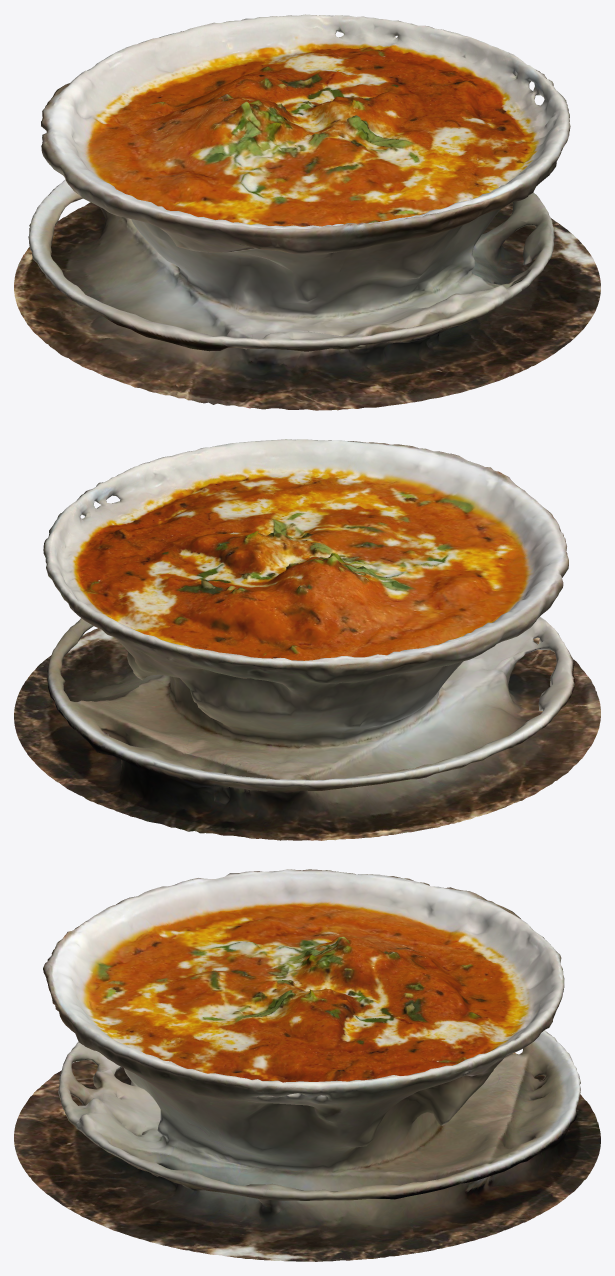
File: butter_chicken.glb
3 renders of one model, top to bottom at view 1: azimuth 30°, elevation 25°; view 2: azimuth 150°, elevation 25°; view 3: azimuth 270°, elevation 25°, orthographic.
Parts seen in each view (by area): view 1: 3Ddata; view 2: 3Ddata; view 3: 3Ddata.
Part boxes in pixels (x1,y1,x2,y2): 3Ddata: (14, 14, 600, 410); 3Ddata: (14, 439, 600, 840); 3Ddata: (14, 869, 600, 1261).
Bounding box in the file's own units: 0.1846 × 0.0644 × 0.1865.
1 material, 1 textured.
